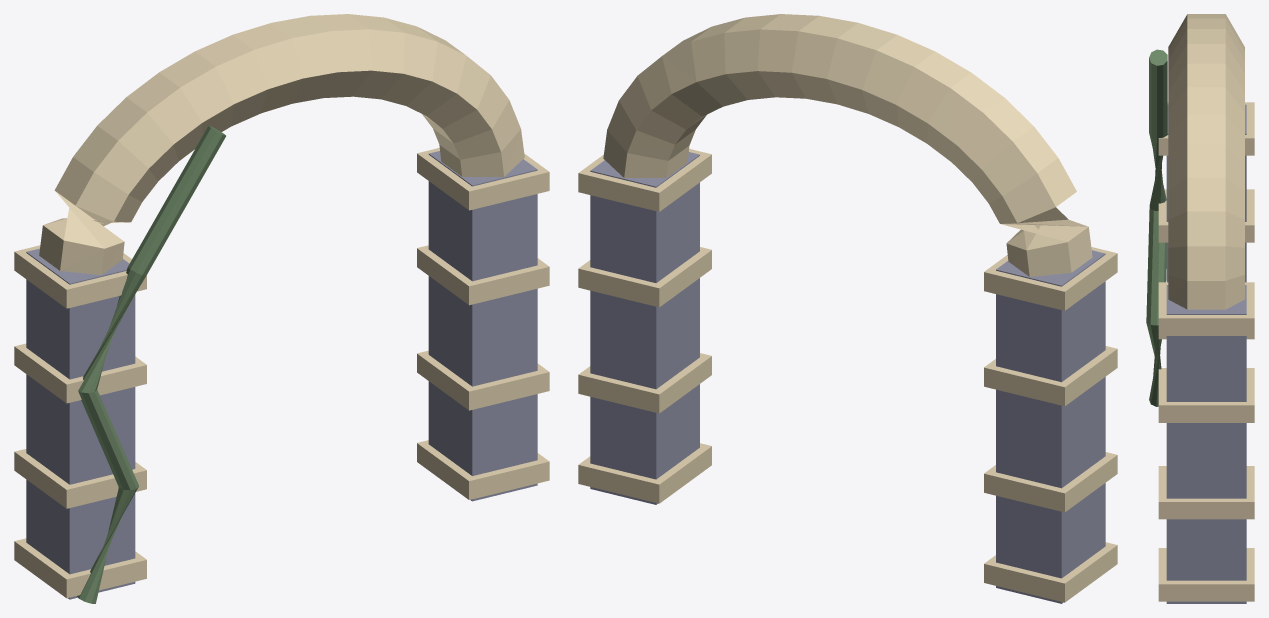
The model's file is Arch.obj.
3 views of the same model, side by side, from view 1: azimuth 30°, elevation 25°; view 2: azimuth 150°, elevation 25°; view 3: azimuth 270°, elevation 25° (orthographic). The views are drawn at different scales.
Visible parts, largest first — view 1: Arch; view 2: Arch; view 3: Arch.
Boxes of the visible parts, x1,y1,x2,y2 form: Arch: (14,14,549,603); Arch: (578,14,1117,603); Arch: (1146,14,1254,603).
Bounding box in the file's own units: 4.8 × 4.74 × 1.01.
